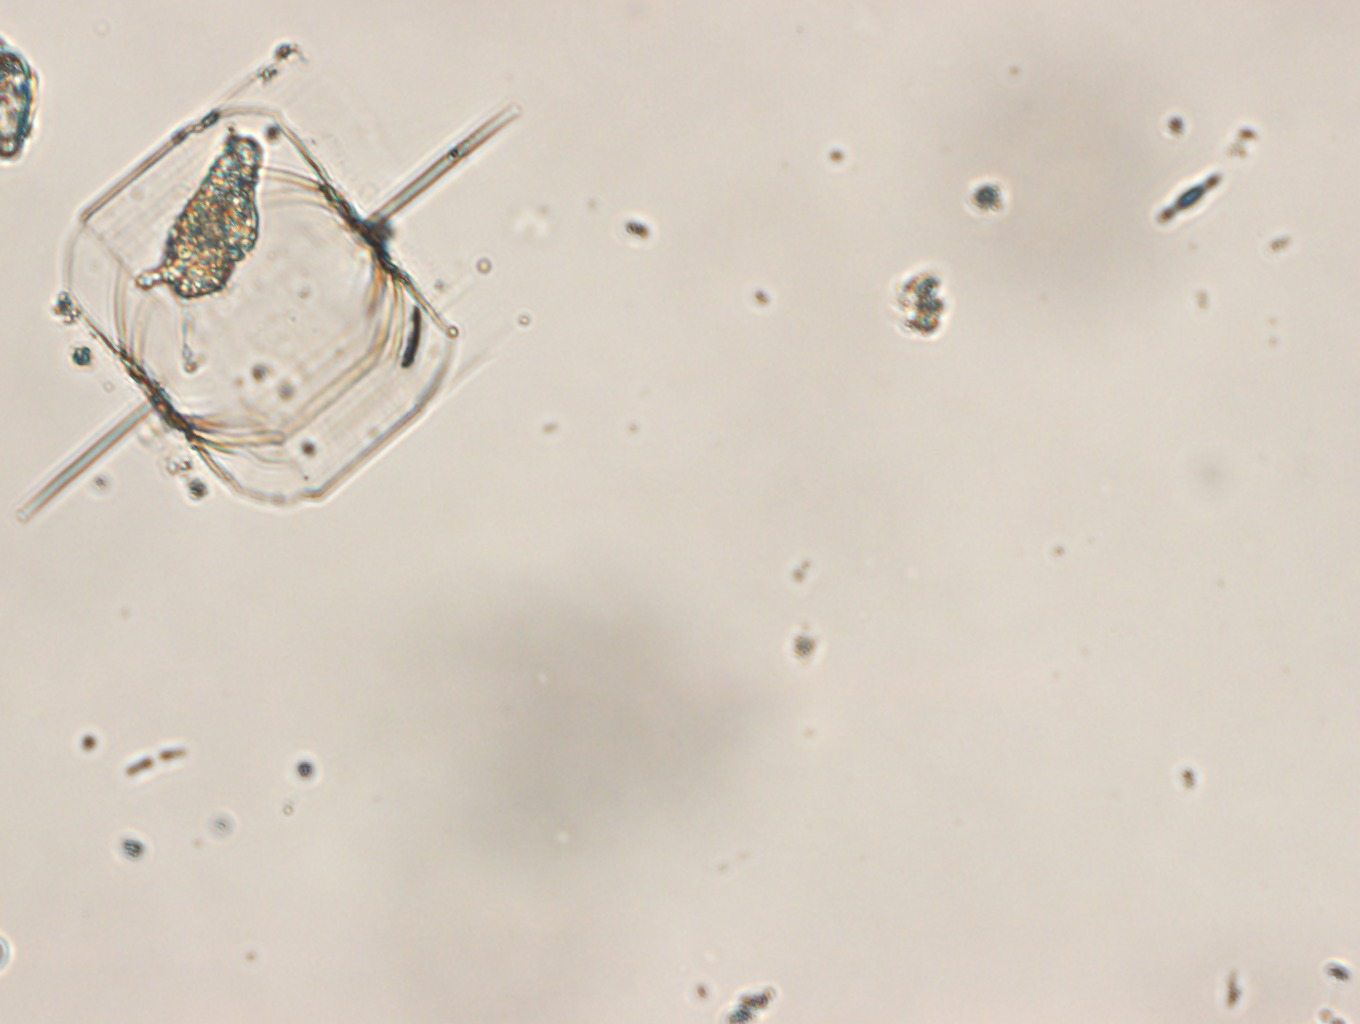ditylum: (12, 94, 524, 525)
